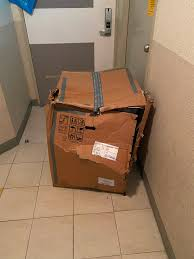damaged package: (45, 67, 154, 197)
